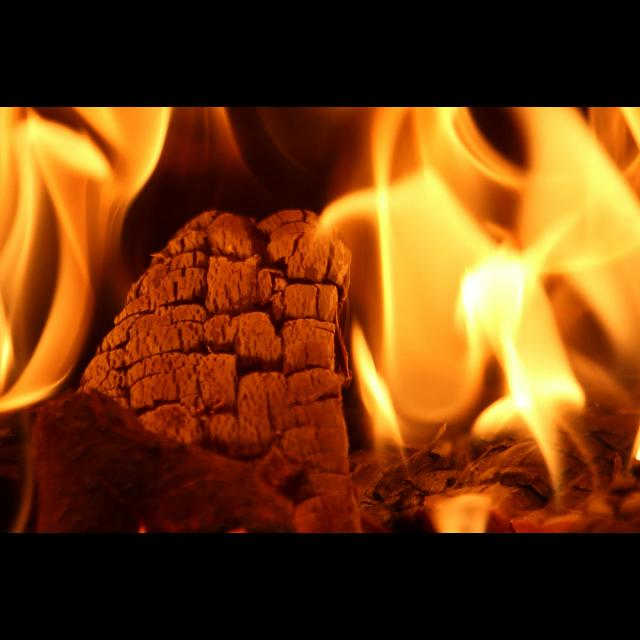fire: (370, 107, 585, 489), (0, 107, 172, 414), (550, 174, 632, 289)
